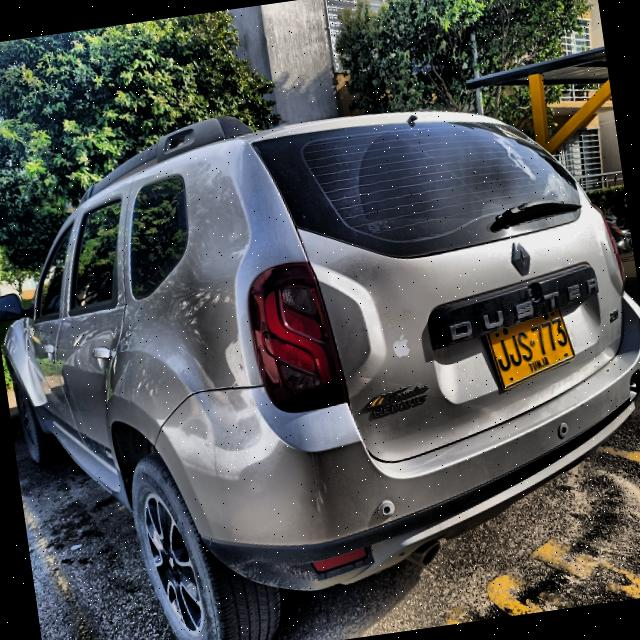3: (551, 316, 570, 348)
7: (529, 323, 550, 357), (541, 319, 560, 353)
J: (491, 337, 514, 373), (504, 332, 524, 369)
S: (515, 330, 536, 363)
